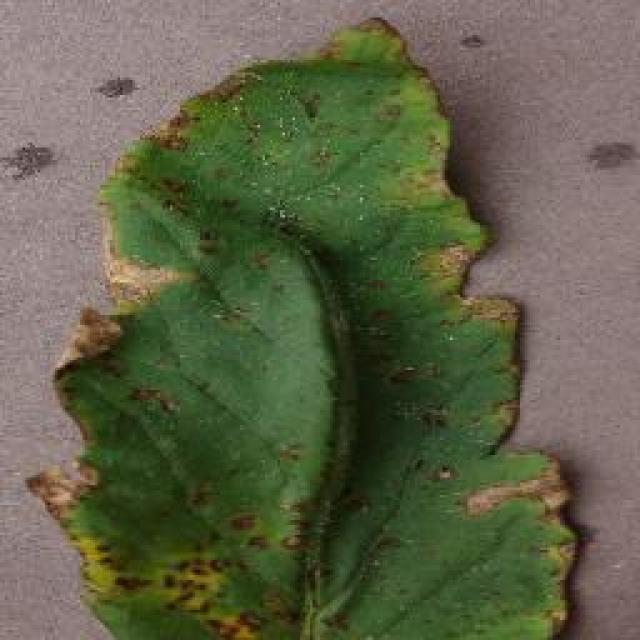Tomato___Bacterial_spot: (21, 18, 587, 638)
